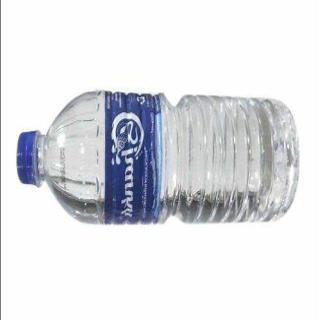Anorganik: (11, 81, 301, 232)
